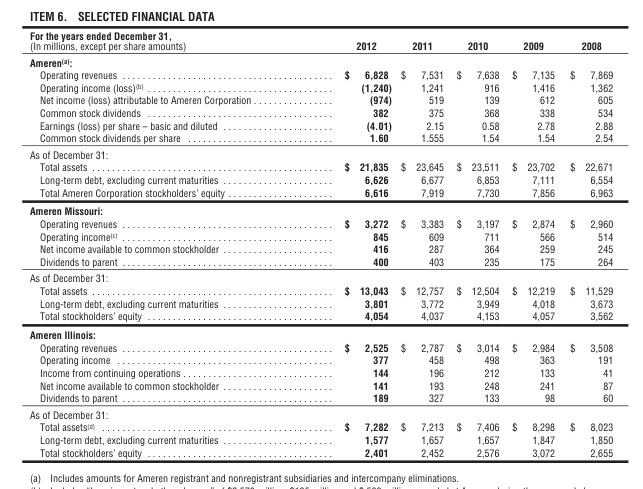table: (28, 28, 612, 458)
table column: (28, 28, 297, 458), (297, 28, 395, 458), (504, 28, 561, 458), (449, 28, 504, 458), (395, 28, 449, 458), (561, 28, 612, 458)
table column header: (28, 28, 612, 53)
table projected row header: (28, 201, 612, 217), (28, 53, 612, 68), (28, 145, 612, 160), (28, 325, 612, 340), (28, 405, 612, 420), (28, 269, 612, 283)
table row: (28, 28, 612, 53), (28, 185, 612, 201), (28, 201, 612, 217), (28, 309, 612, 325), (28, 53, 612, 68), (28, 145, 612, 160), (28, 254, 612, 269), (28, 325, 612, 340), (28, 405, 612, 420), (28, 131, 612, 145), (28, 269, 612, 283), (28, 391, 612, 405), (28, 80, 612, 93), (28, 105, 612, 118), (28, 118, 612, 131), (28, 172, 612, 185), (28, 229, 612, 242), (28, 283, 612, 296), (28, 296, 612, 309), (28, 340, 612, 353), (28, 353, 612, 366), (28, 378, 612, 391), (28, 432, 612, 445), (28, 445, 612, 458), (28, 68, 612, 80), (28, 93, 612, 105), (28, 160, 612, 172), (28, 217, 612, 229), (28, 242, 612, 254), (28, 366, 612, 378), (28, 420, 612, 432)
